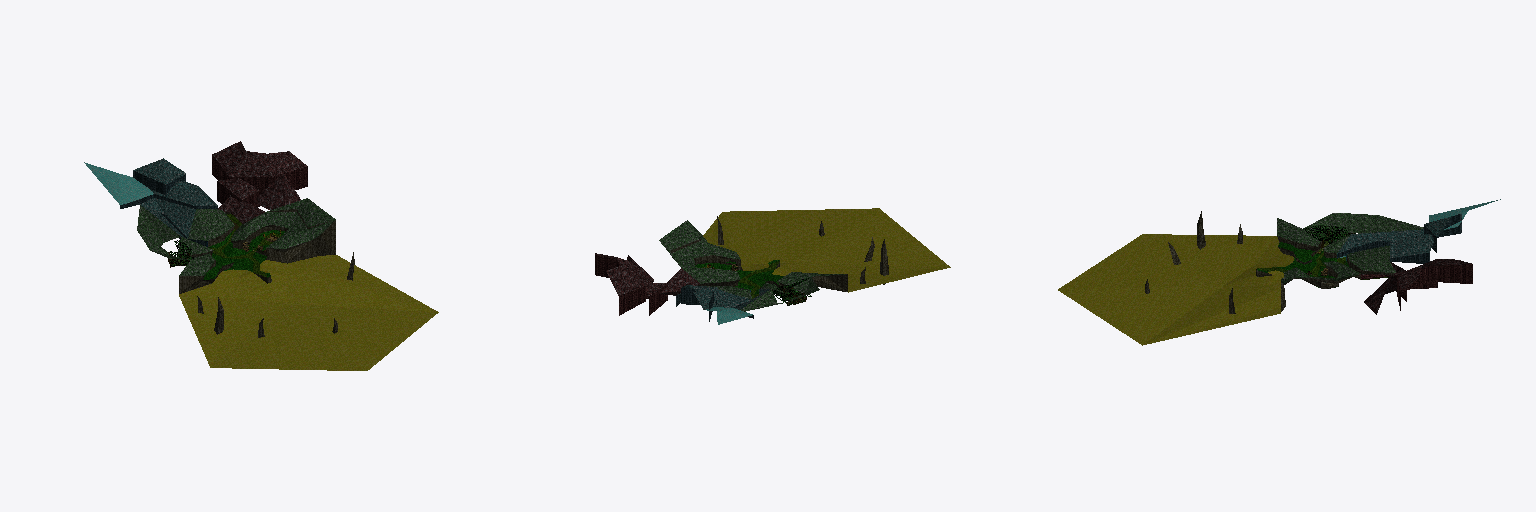
3 renders of one model, left to right at view 1: azimuth 30°, elevation 25°; view 2: azimuth 150°, elevation 25°; view 3: azimuth 270°, elevation 25°, orthographic.
Parts seen in each view (by area): view 1: beach; view 2: beach; view 3: beach.
Part boxes in pixels (x1,y1,x2,y2): beach: (84, 141, 438, 370); beach: (595, 208, 950, 324); beach: (1058, 199, 1500, 345).
Size of the model in its own units: 47.32 by 14.28 by 79.86.
23 materials, 22 textured.